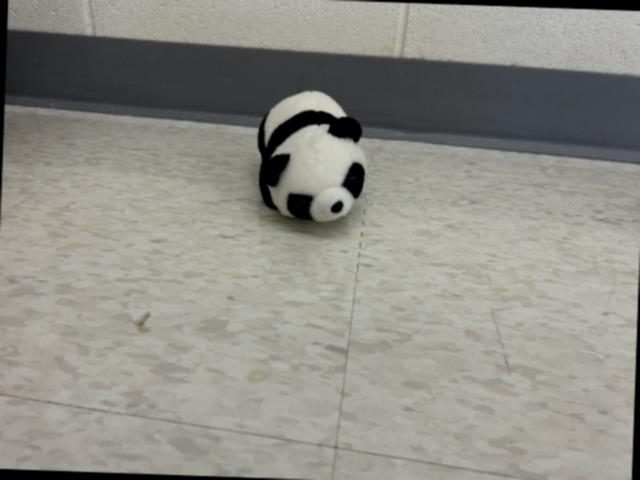panda_plushie: (258, 90, 368, 224)
